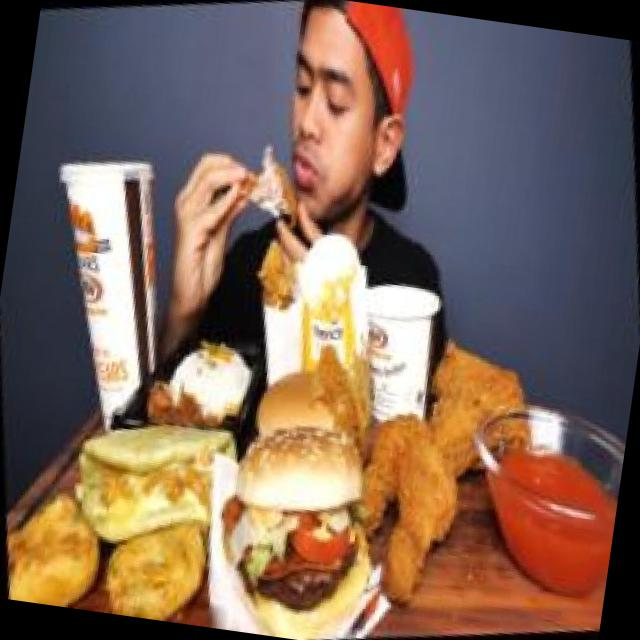AW cola: (18, 117, 222, 435)
black pepper rice bowl: (123, 322, 269, 464)
cheese burger: (238, 348, 369, 468)
chicken waffle: (226, 213, 333, 354)
crispy corn: (338, 257, 474, 439)
french fries: (276, 242, 380, 360)
fried chicken: (309, 302, 583, 640), (292, 321, 384, 460), (216, 130, 314, 240)
mango chicken pocket: (53, 392, 263, 574)
mozza burger: (193, 402, 403, 640)
perkedel: (82, 488, 234, 628), (0, 475, 121, 613)
